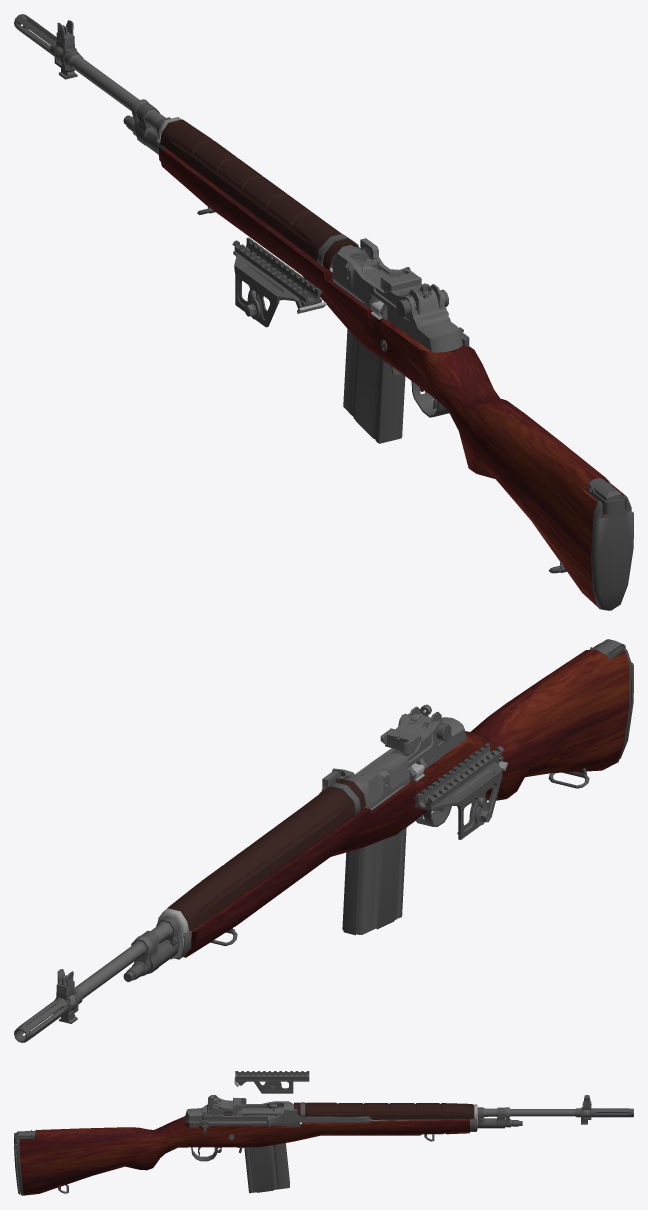
Rendered from dmr.glb.
3 renders of one model, top to bottom at view 1: azimuth 30°, elevation 25°; view 2: azimuth 150°, elevation 25°; view 3: azimuth 270°, elevation 25°, orthographic. The views are drawn at different scales.
Parts seen in each view (by area): view 1: body (×4), magazine, bolt; view 2: body (×5), magazine, bolt; view 3: body (×4), magazine, bolt.
Boxes of the visible parts, x1,y1,x2,y2 form: body (×4): (14,14,633,610); magazine: (343,329,405,443); bolt: (355,238,410,290); body (×5): (14,639,633,1042); magazine: (342,828,406,935); bolt: (321,750,405,791); body (×4): (14,1071,633,1195); magazine: (244,1143,289,1193); bolt: (239,1107,452,1127).
Bounding box in the file's own units: 0.1739 × 0.1994 × 1.12.
9 materials, 1 textured.
